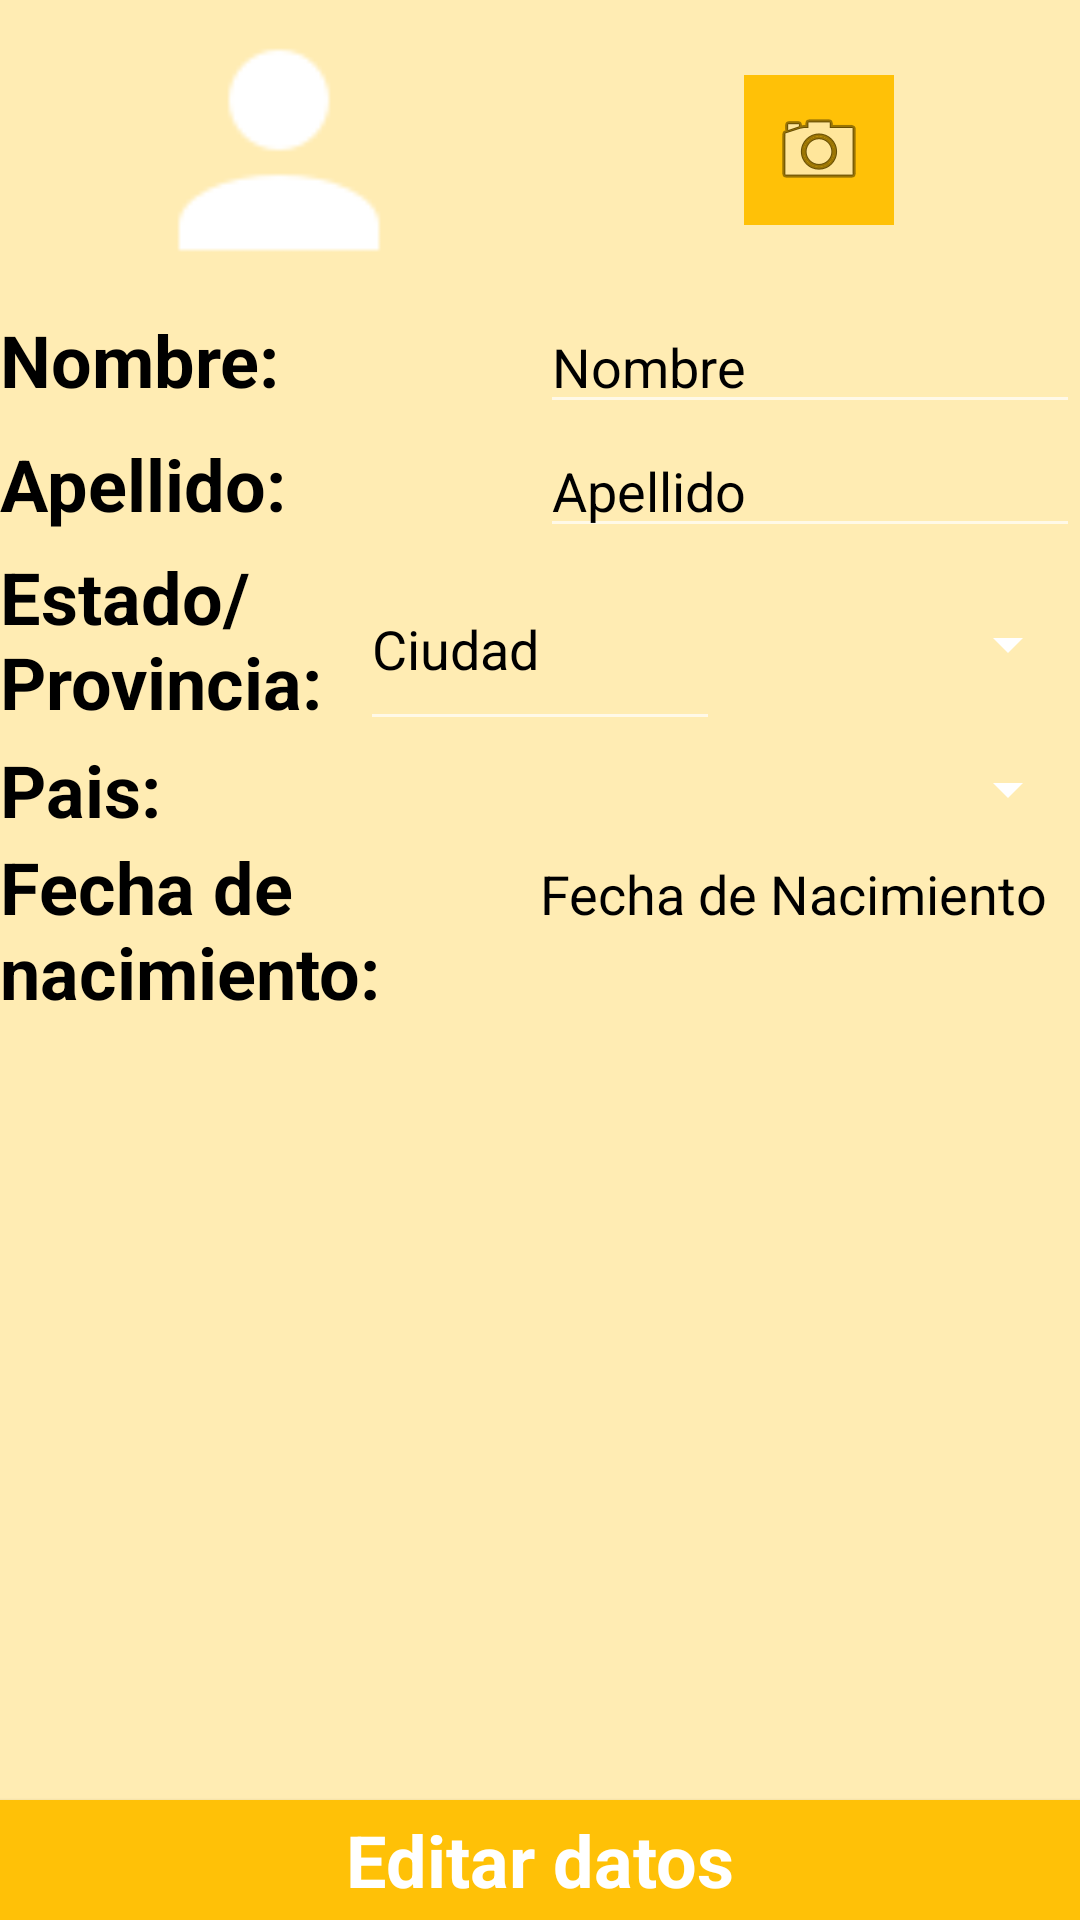

Icon click points for this 1080px x 1920px phone screenshot, format (x,y):
camera: (819,150)
manuser: (279,150)
